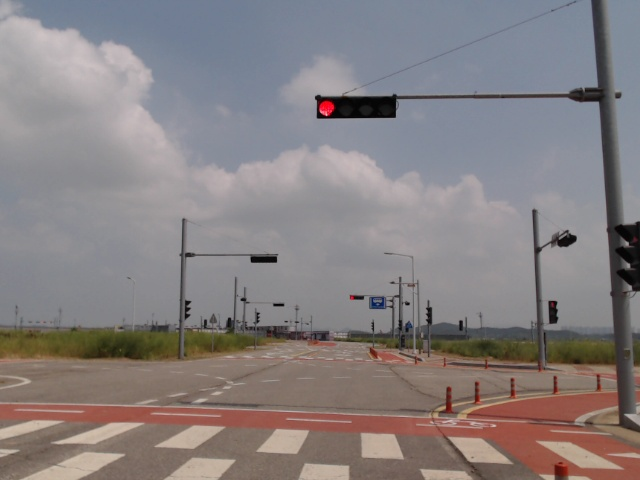red_4: (317, 97, 395, 118), (349, 295, 364, 300)
